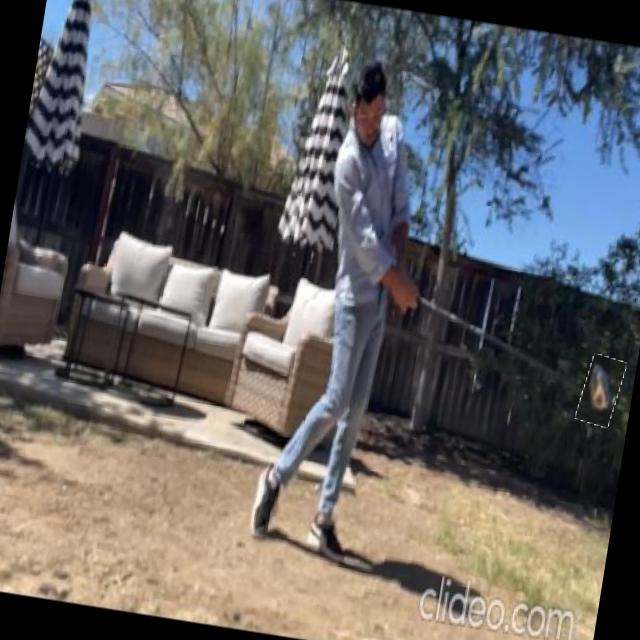club head: (576, 354, 626, 428)
